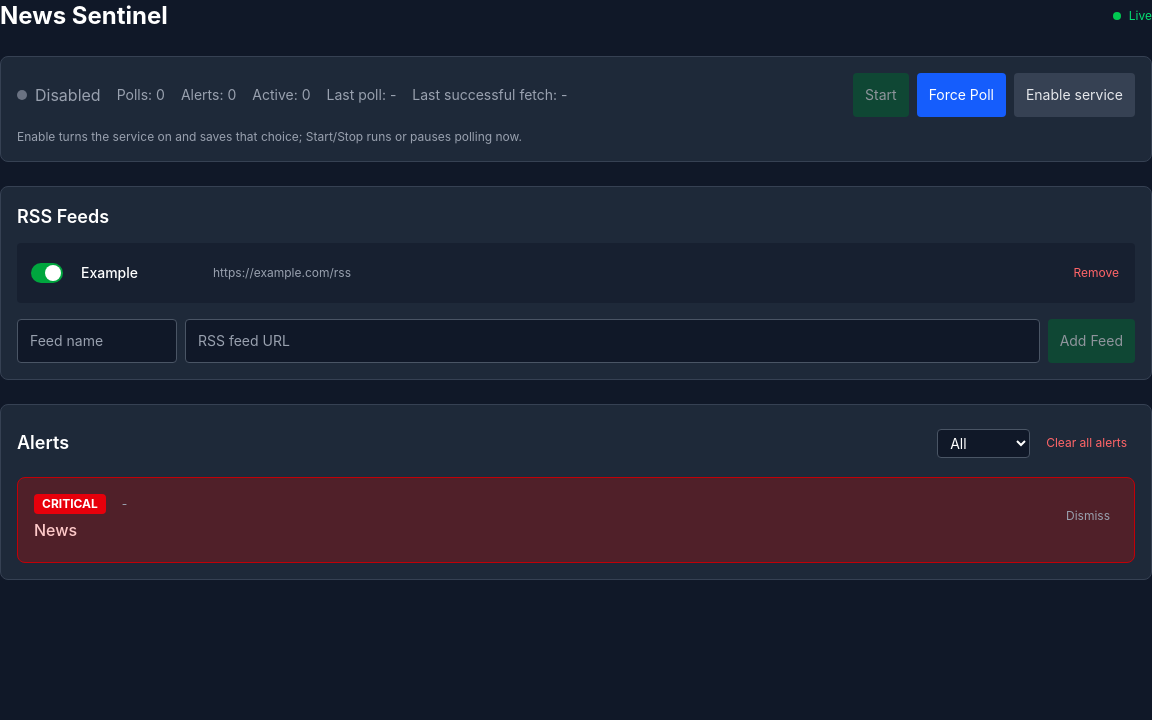
Test case: feed removal confirms the named feed, preserves it on failure, and succeeds on retry
Click the button with aria-label "Remove Example feed".
click(1096, 273)  # box [1066,251,1127,295]
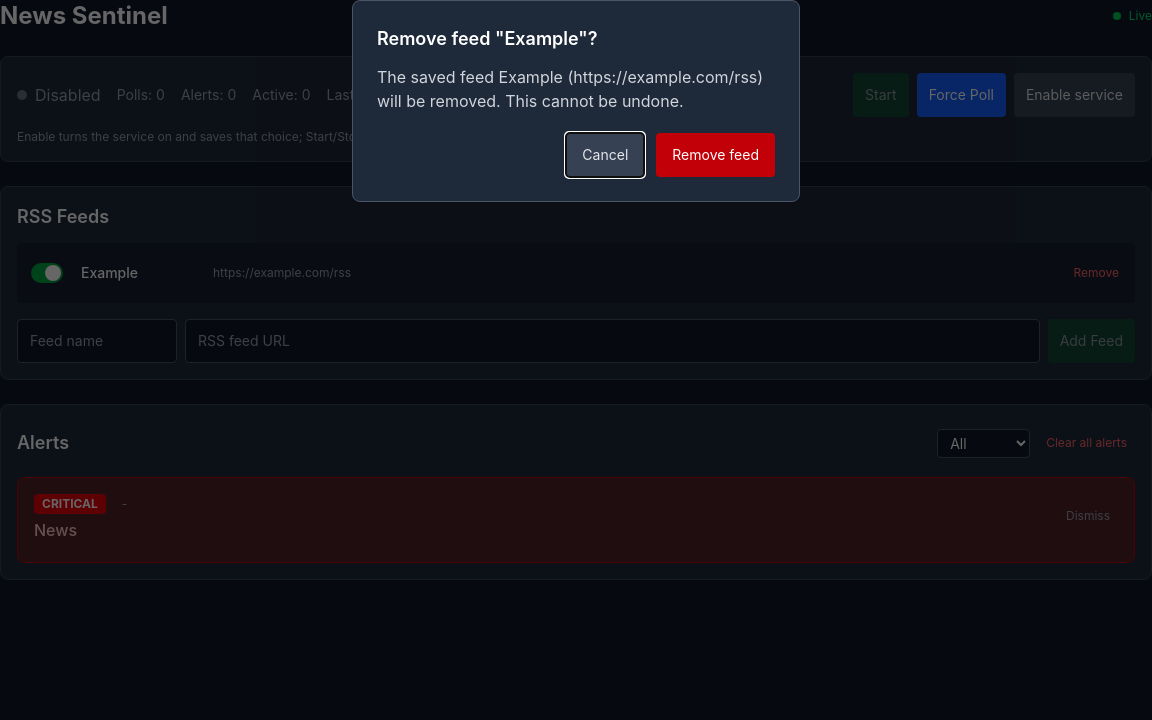
expect the heading "Remove feed \"Example\"?" is shown: met, box [377,28,598,49]
Click the button "Remove feed".
click(716, 155)  # box [656,133,775,177]
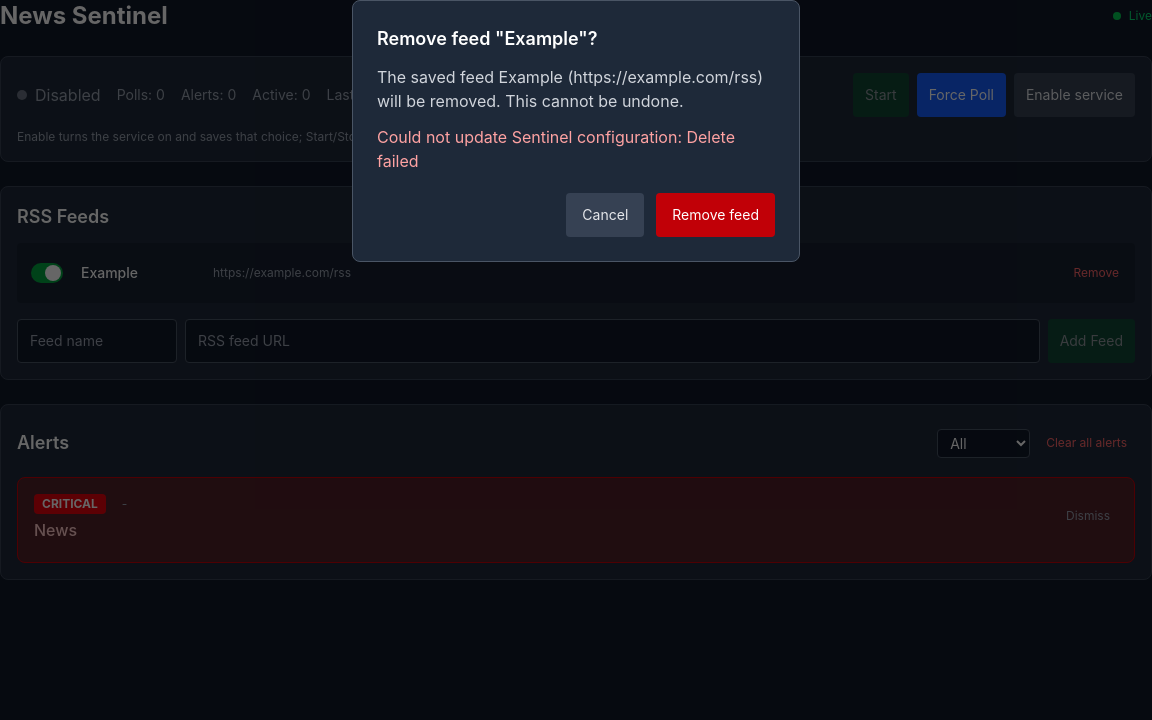
expect the button with aria-label "Remove Example feed" is shown: met, box [1066,251,1127,295]
expect the message "Could not update Sentinel configuration: Delete failed" is shown: met, box [377,125,775,173]
Click the button "Remove feed".
click(716, 215)  # box [656,193,775,237]
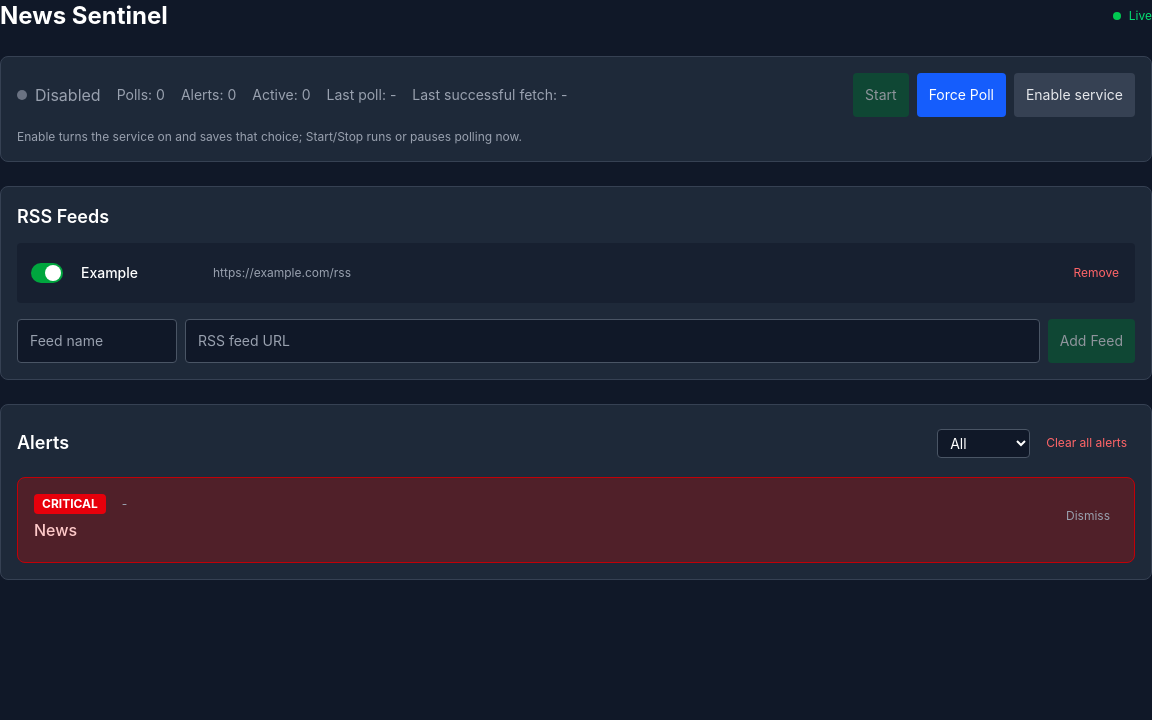
expect the dialog is gone: met
